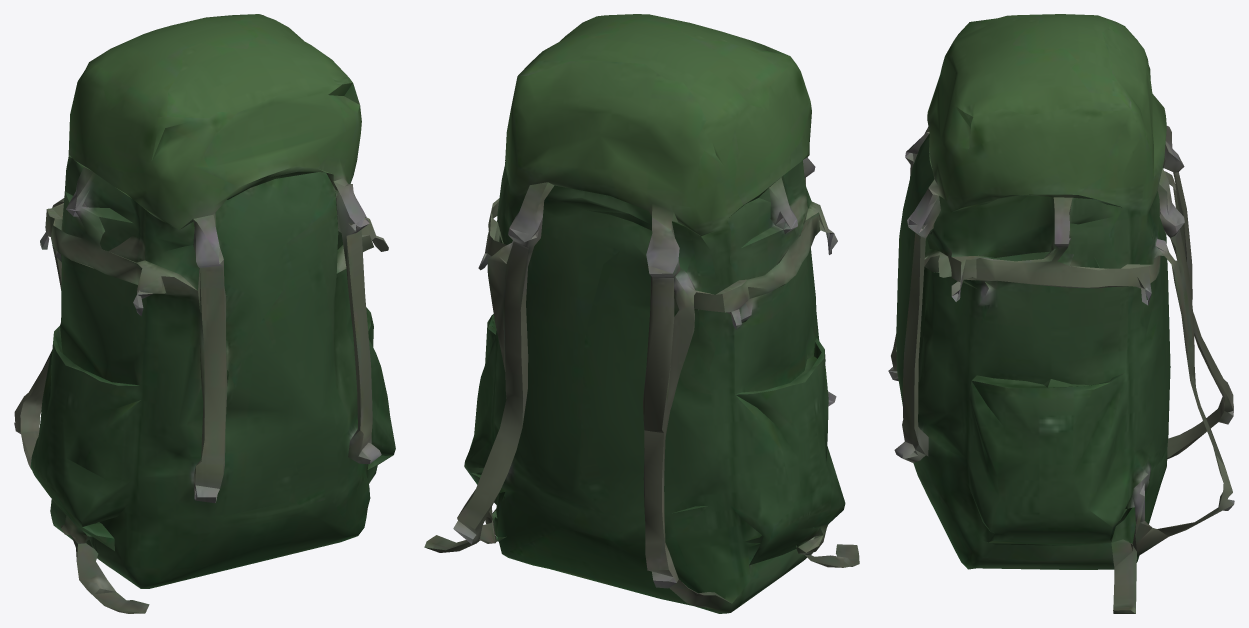
File: backpack.glb
3 renders of one model, left to right at view 1: azimuth 30°, elevation 25°; view 2: azimuth 150°, elevation 25°; view 3: azimuth 270°, elevation 25°, orthographic. The views are drawn at different scales.
Parts seen in each view (by area): view 1: backpack; view 2: backpack; view 3: backpack.
Part boxes in pixels (box(x1,y1,x2,y2)): backpack: box(14, 14, 395, 613); backpack: box(424, 14, 859, 613); backpack: box(888, 14, 1234, 613).
Size of the model in its own units: 0.451 by 0.65 by 0.4085.
1 material, 1 textured.
